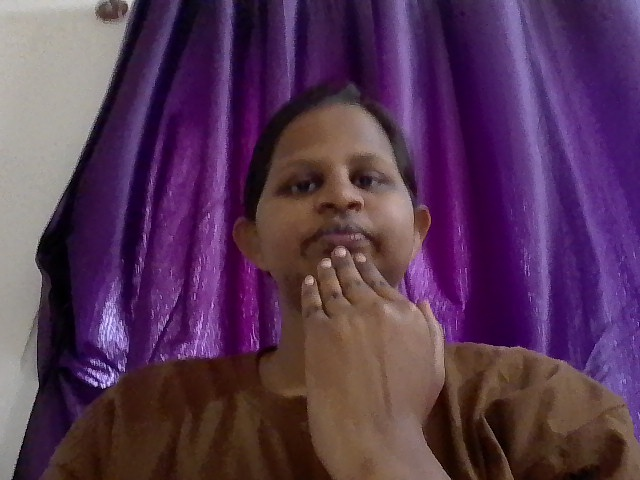THANK YOU: (194, 217, 547, 480)
